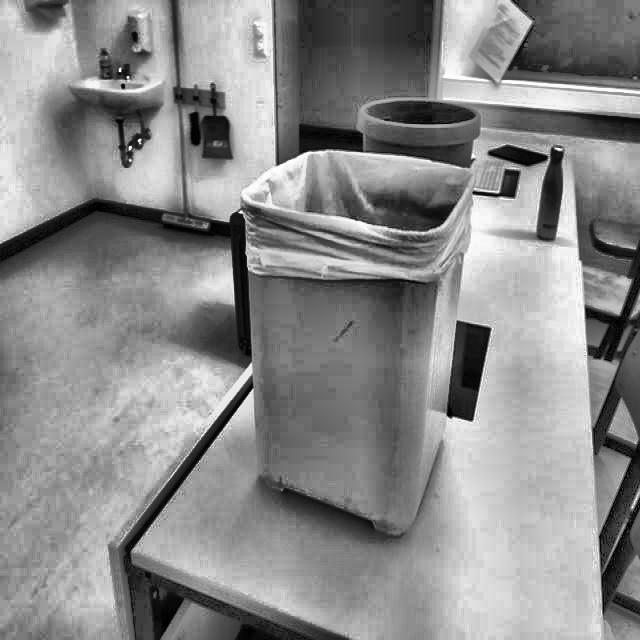Dustbin: (233, 134, 483, 546), (360, 88, 489, 148)
